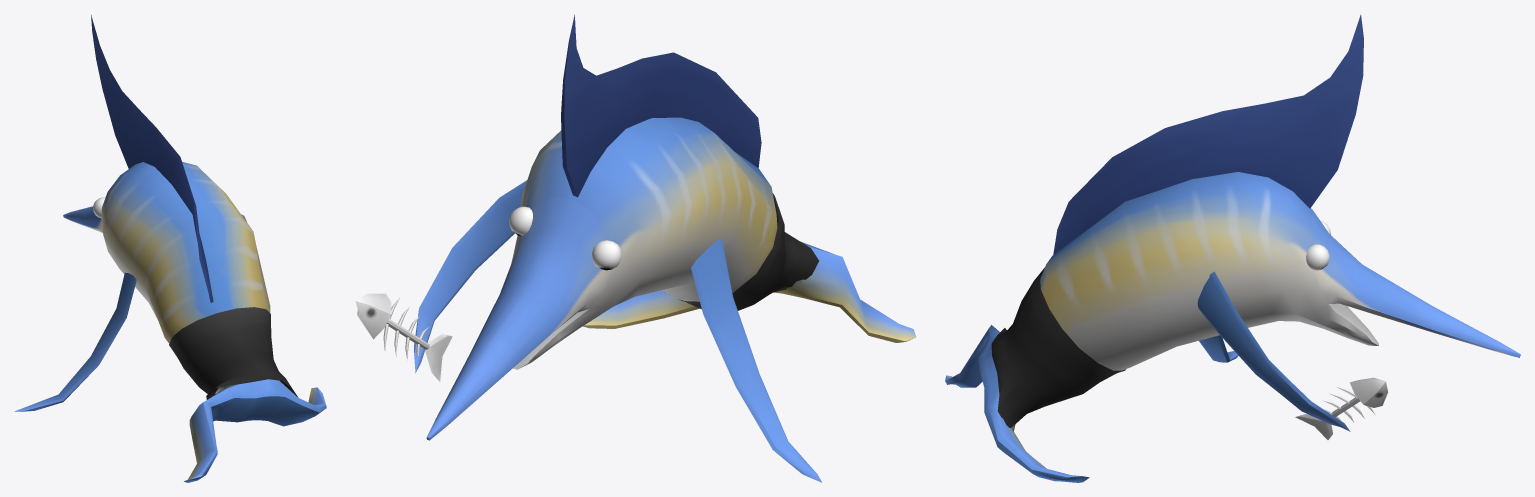
File: kajiki_fix_03.fbx
The picture shows the model from 3 angles, left to right: view 1: azimuth 30°, elevation 25°; view 2: azimuth 150°, elevation 25°; view 3: azimuth 270°, elevation 25°; orthographic projection. The views are drawn at different scales.
Parts seen in each view (by area): view 1: F_03; view 2: F_03; view 3: F_03.
Part boxes in pixels (x1,y1,x2,y2): F_03: (15,15,326,482); F_03: (355,14,916,482); F_03: (945,14,1520,482).
Bounding box in the file's own units: 1.73 × 2.04 × 2.6.
Materials: 2 (2 with a texture image).
